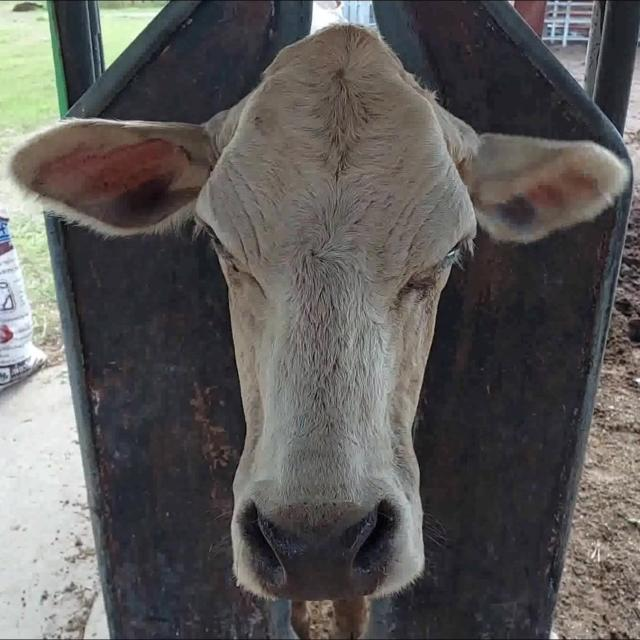cowFace: (198, 25, 480, 599)
